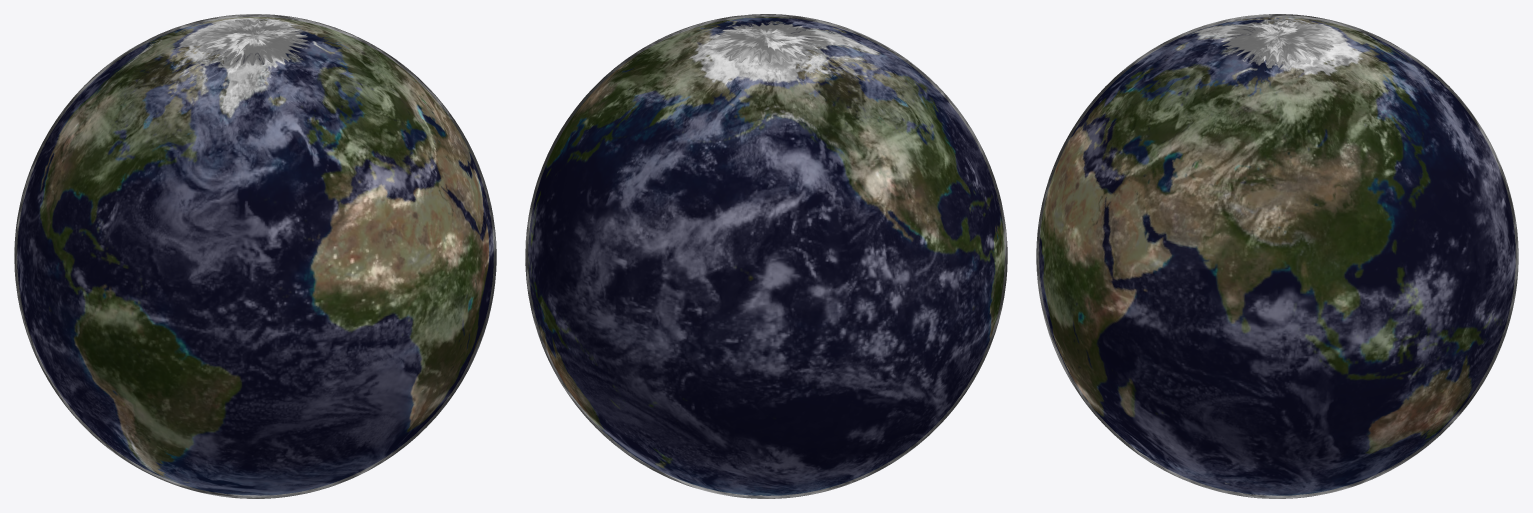
File: earth.glb
The picture shows the model from 3 angles, left to right: view 1: azimuth 30°, elevation 25°; view 2: azimuth 150°, elevation 25°; view 3: azimuth 270°, elevation 25°; orthographic projection.
Parts seen in each view (by area): view 1: Clouds, Earth_Earth_0; view 2: Clouds, Earth_Earth_0; view 3: Clouds, Earth_Earth_0.
Part boxes in pixels (<box>): Clouds: <box>14,14,496,498</box>; Earth_Earth_0: <box>17,17,493,495</box>; Clouds: <box>525,14,1007,498</box>; Earth_Earth_0: <box>528,17,1004,495</box>; Clouds: <box>1036,14,1518,498</box>; Earth_Earth_0: <box>1039,17,1515,495</box>.
Size of the model in its own units: 1984 by 2005 by 1984.
Materials: 2 (2 with a texture image).
